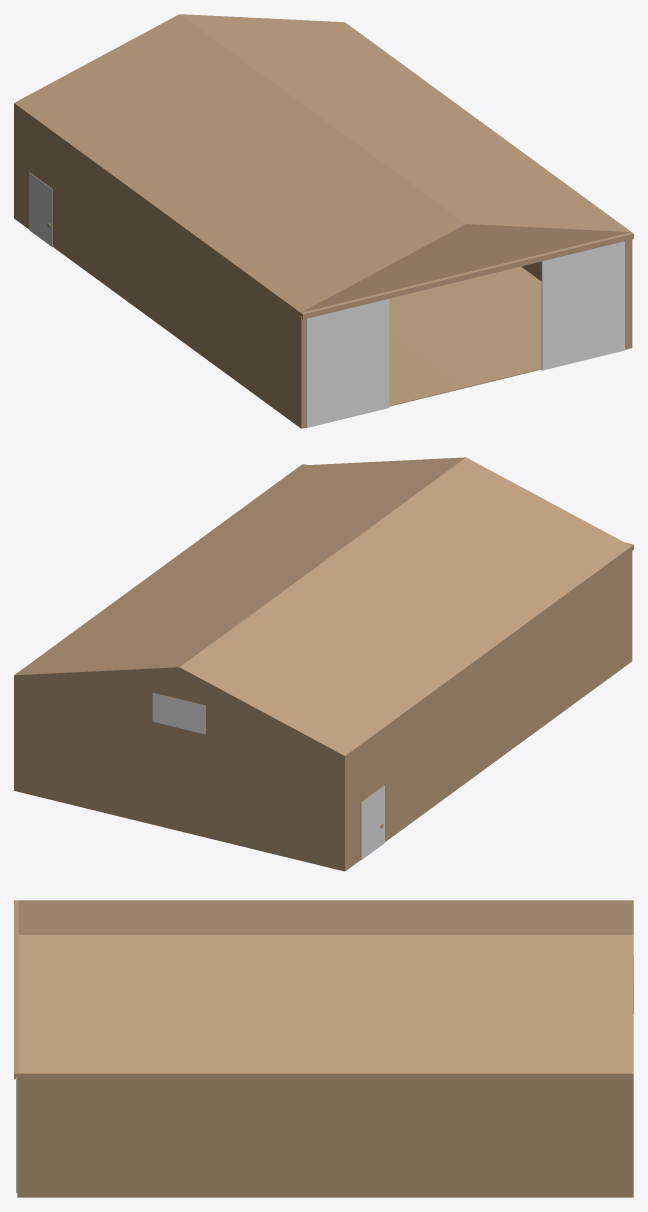
Rendered from hangar.fbx.
3 renders of one model, top to bottom at view 1: azimuth 30°, elevation 25°; view 2: azimuth 150°, elevation 25°; view 3: azimuth 270°, elevation 25°, orthographic. The views are drawn at different scales.
Visible parts, largest first — view 1: hangar cubo.002; view 2: hangar cubo.002; view 3: hangar cubo.002.
Part boxes in pixels (box(x1,y1,x2,y2)): hangar cubo.002: box(14, 14, 633, 428); hangar cubo.002: box(14, 457, 633, 871); hangar cubo.002: box(14, 900, 633, 1197).
Size of the model in its own units: 1205 by 568 by 1815.
